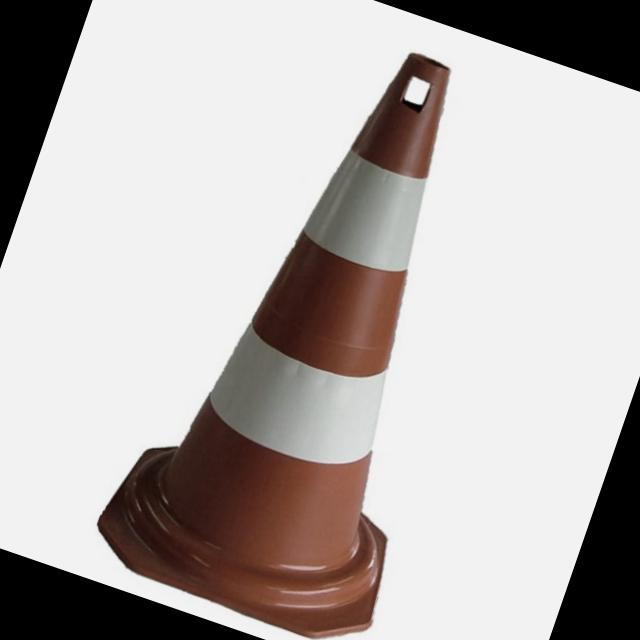cone: (70, 0, 576, 640)
